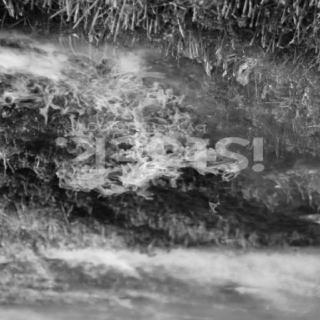Fire: (1, 242, 130, 310)
Smoke: (100, 237, 320, 319)
